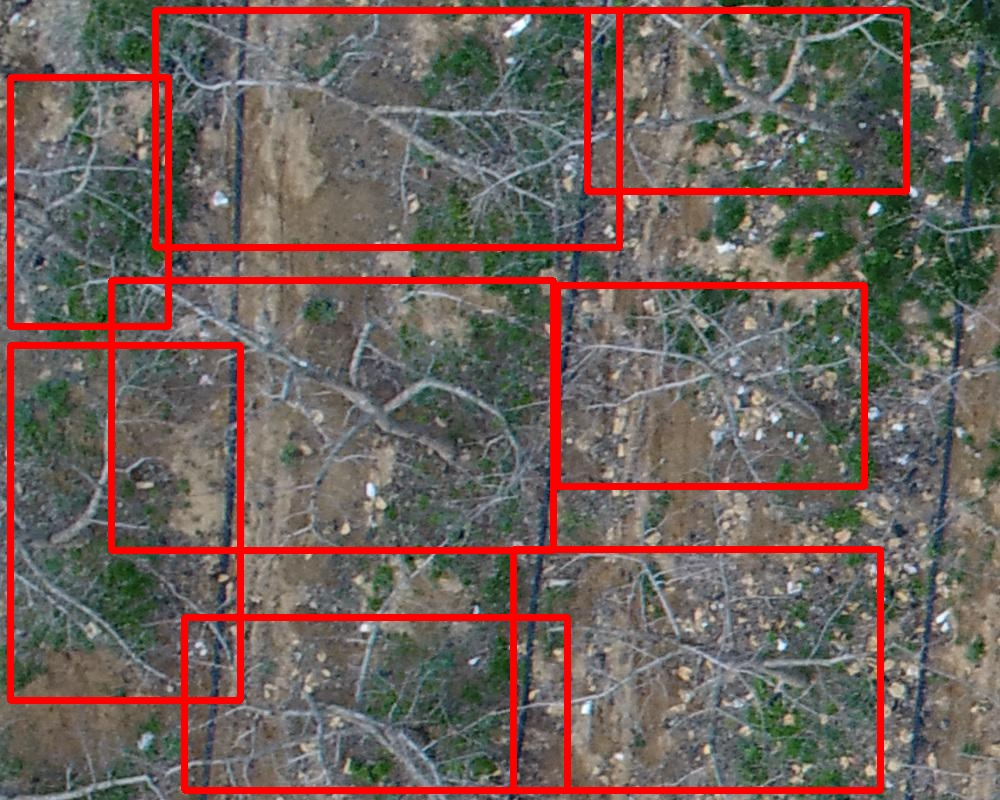apple: (111, 280, 553, 550), (155, 10, 619, 247), (513, 549, 880, 790), (10, 345, 240, 700), (184, 617, 567, 790), (557, 285, 864, 486), (587, 10, 906, 191), (10, 77, 168, 326)
